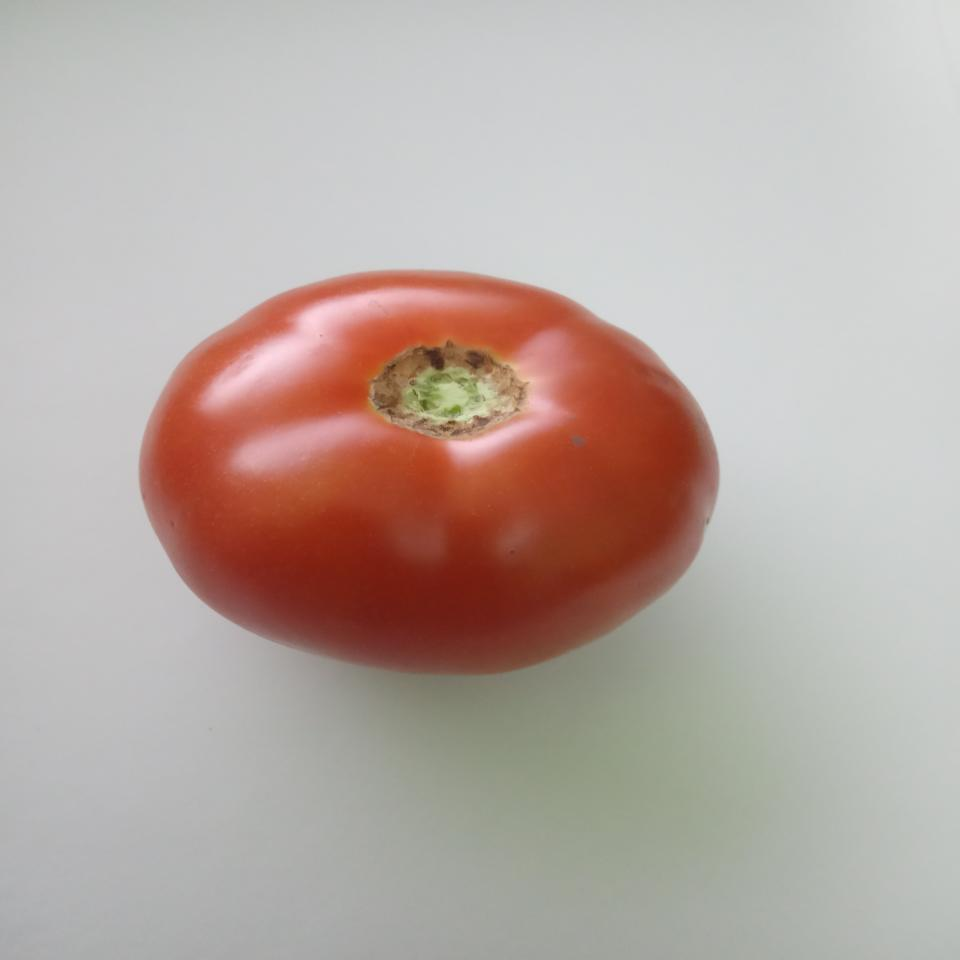Healthy: (124, 262, 740, 684)
